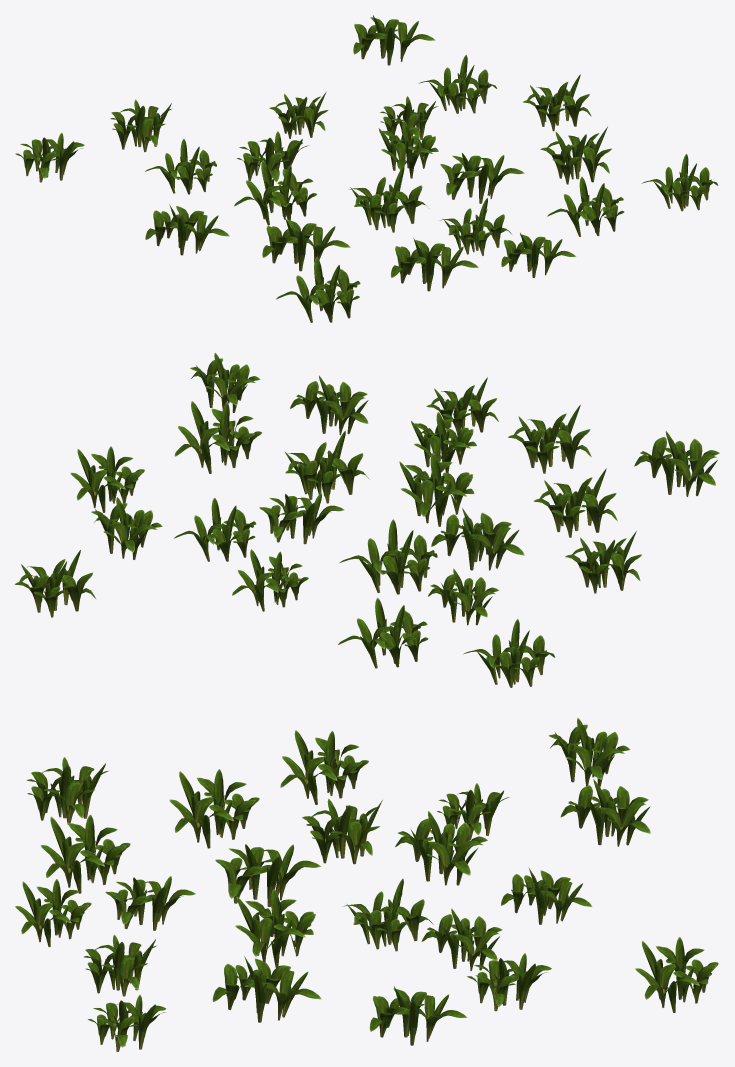
Rendered from jesenskipodlesek_star_trop.gltf.
3 views of the same model, one above another, from view 1: azimuth 30°, elevation 25°; view 2: azimuth 150°, elevation 25°; view 3: azimuth 270°, elevation 25° (orthographic). The views are drawn at different scales.
Parts seen in each view (by area): view 1: jesenskipodlesek_list.007, jesenskipodlesek_list.022, jesenskipodlesek_list.019, jesenskipodlesek_list.017, jesenskipodlesek_list.021, jesenskipodlesek_list.011, jesenskipodlesek_list.005, jesenskipodlesek_list.012, jesenskipodlesek_list.006, jesenskipodlesek_list.003, jesenskipodlesek_list.014, jesenskipodlesek_list.016 (+10 smaller); view 2: jesenskipodlesek_list.001, jesenskipodlesek_list.005, jesenskipodlesek_list.022, jesenskipodlesek_list.007, jesenskipodlesek_list.019, jesenskipodlesek_list.011, jesenskipodlesek_list.015, jesenskipodlesek_list.021, jesenskipodlesek_list.017, jesenskipodlesek_list.023, jesenskipodlesek_list.010, jesenskipodlesek_list.014 (+10 smaller); view 3: jesenskipodlesek_list.021, jesenskipodlesek_list.017, jesenskipodlesek_list.005, jesenskipodlesek_list.011, jesenskipodlesek_list.001, jesenskipodlesek_list.006, jesenskipodlesek_list.023, jesenskipodlesek_list.007, jesenskipodlesek_list.012, jesenskipodlesek_list.019, jesenskipodlesek_list.022, jesenskipodlesek_list.008 (+10 smaller).
Part boxes in pixels (box(x1,y1,x2,y2)): jesenskipodlesek_list.007: box(349, 166, 428, 232); jesenskipodlesek_list.022: box(276, 257, 360, 322); jesenskipodlesek_list.019: box(234, 160, 316, 225); jesenskipodlesek_list.017: box(391, 238, 478, 291); jesenskipodlesek_list.021: box(262, 217, 350, 271); jesenskipodlesek_list.011: box(440, 153, 524, 203); jesenskipodlesek_list.005: box(540, 126, 611, 184); jesenskipodlesek_list.012: box(145, 204, 229, 255); jesenskipodlesek_list.006: box(353, 15, 435, 65); jesenskipodlesek_list.003: box(418, 55, 497, 113); jesenskipodlesek_list.014: box(547, 176, 624, 236); jesenskipodlesek_list.016: box(641, 154, 717, 211); jesenskipodlesek_list.001: box(339, 519, 437, 594); jesenskipodlesek_list.005: box(174, 401, 262, 473); jesenskipodlesek_list.022: box(634, 431, 719, 496); jesenskipodlesek_list.007: box(399, 453, 474, 526); jesenskipodlesek_list.019: box(431, 508, 524, 570); jesenskipodlesek_list.011: box(284, 431, 369, 503); jesenskipodlesek_list.015: box(463, 619, 555, 687); jesenskipodlesek_list.021: box(533, 468, 617, 537); jesenskipodlesek_list.017: box(508, 405, 591, 473); jesenskipodlesek_list.023: box(338, 598, 428, 668); jesenskipodlesek_list.010: box(70, 446, 144, 512); jesenskipodlesek_list.014: box(290, 375, 368, 435); jesenskipodlesek_list.021: box(169, 769, 259, 848); jesenskipodlesek_list.017: box(40, 814, 130, 893); jesenskipodlesek_list.005: box(212, 956, 321, 1022); jesenskipodlesek_list.011: box(235, 889, 315, 967); jesenskipodlesek_list.001: box(395, 811, 487, 885); jesenskipodlesek_list.006: box(635, 937, 718, 1012); jesenskipodlesek_list.023: box(560, 779, 650, 846); jesenskipodlesek_list.007: box(215, 844, 320, 906); jesenskipodlesek_list.012: box(280, 730, 368, 804); jesenskipodlesek_list.019: box(302, 798, 382, 864); jesenskipodlesek_list.022: box(26, 757, 108, 824); jesenskipodlesek_list.008: box(343, 878, 433, 951).
Bounding box in the file's own units: 10.32 × 1.03 × 10.15.
Materials: 1 (1 with a texture image).
